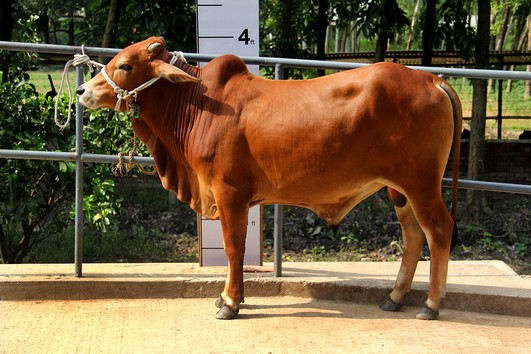cow: (67, 28, 461, 327)
